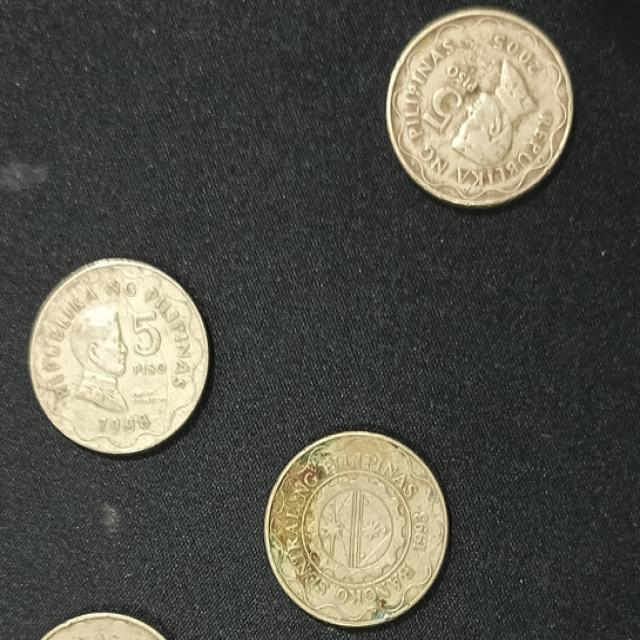5_peso: (386, 7, 573, 206), (267, 432, 446, 625), (31, 260, 208, 454)
